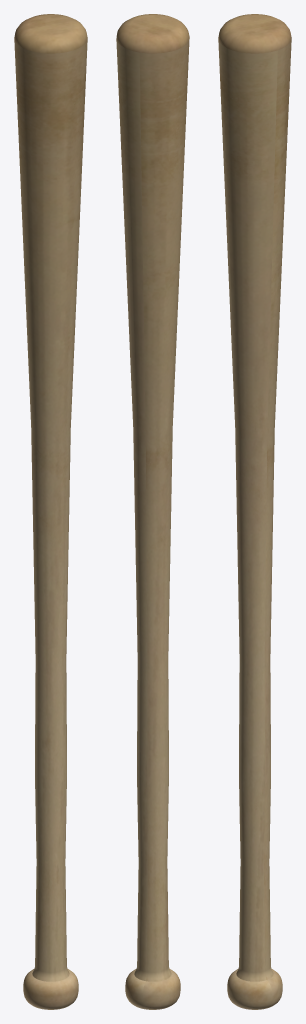
The model's file is BaseballBat.fbx.
3 views of the same model, side by side, from view 1: azimuth 90°, elevation 25°; view 2: azimuth 210°, elevation 25°; view 3: azimuth 270°, elevation 25° (orthographic).
Visible parts, largest first — view 1: bat; view 2: bat; view 3: bat.
Boxes of the visible parts, x1,y1,x2,y2 form: bat: (14,14,87,1009); bat: (116,14,189,1009); bat: (218,14,291,1009).
Bounding box in the file's own units: 6.2 × 91.07 × 6.2.
1 material, 1 textured.
